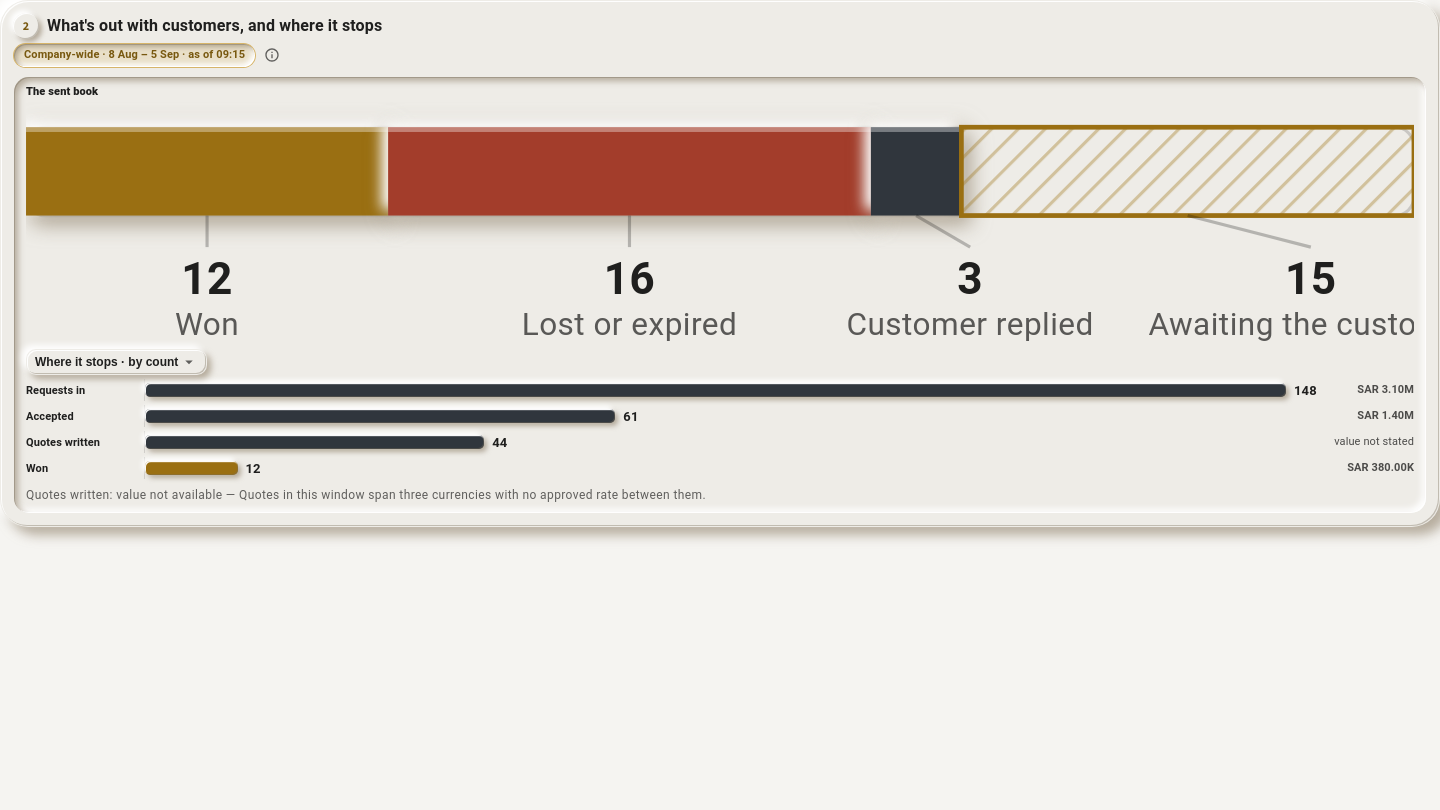
it: OutstandingBand — reading the charts in place › states a step's conversion in words when its stage is clicked, and closes on a second click
Expected: the text with test id "funnel-count-accepted" reads "61", [623,409,638,424]
Step 1. Click the button with test id "funnel-stage-accepted" → (720, 416), box [22,405,1418,427]
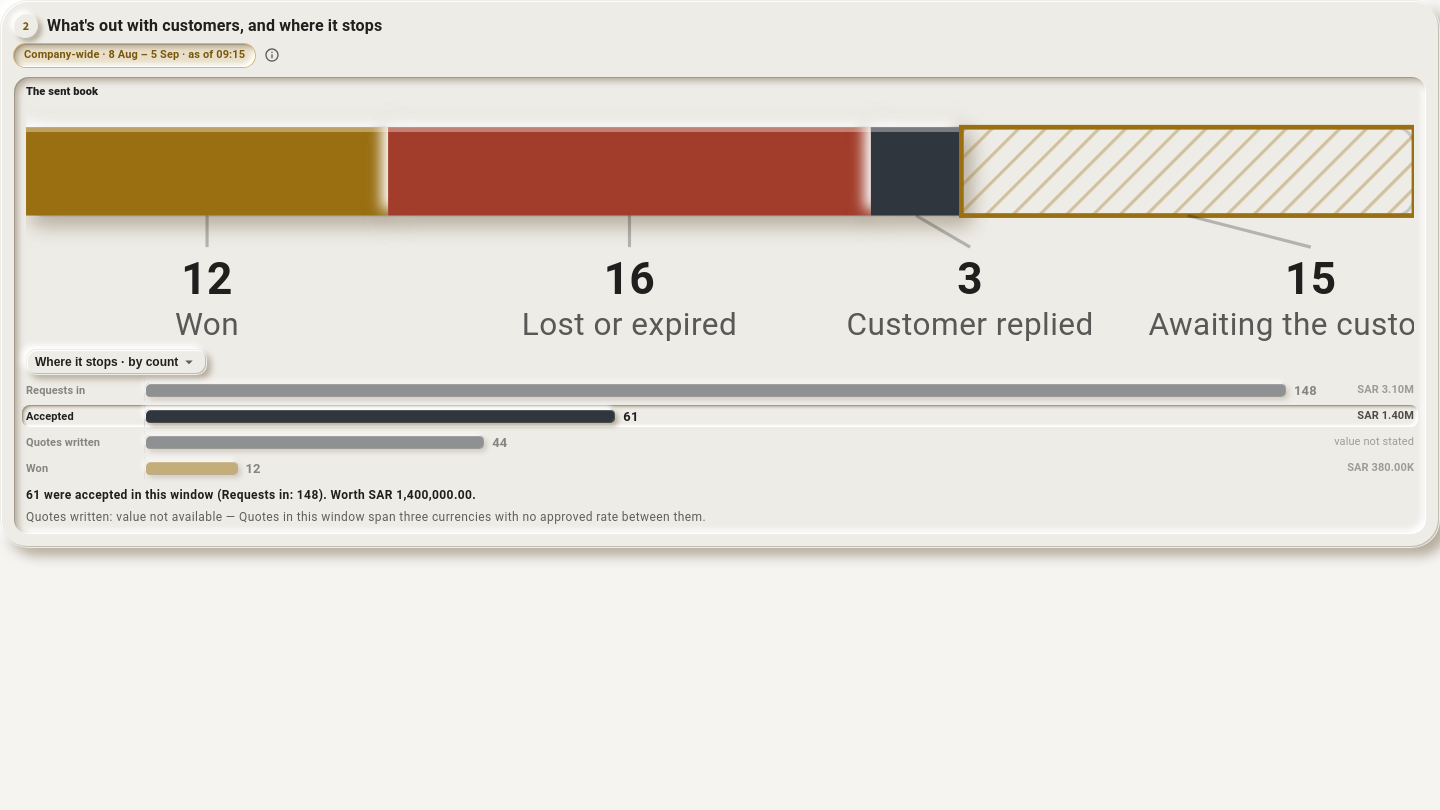
Expected: the message with test id "funnel-drill" shows "61 were accepted in this window (Requests in: 148).", [26,488,476,502]
Step 2. Click the button with test id "funnel-stage-accepted" → (720, 416), box [22,405,1418,427]
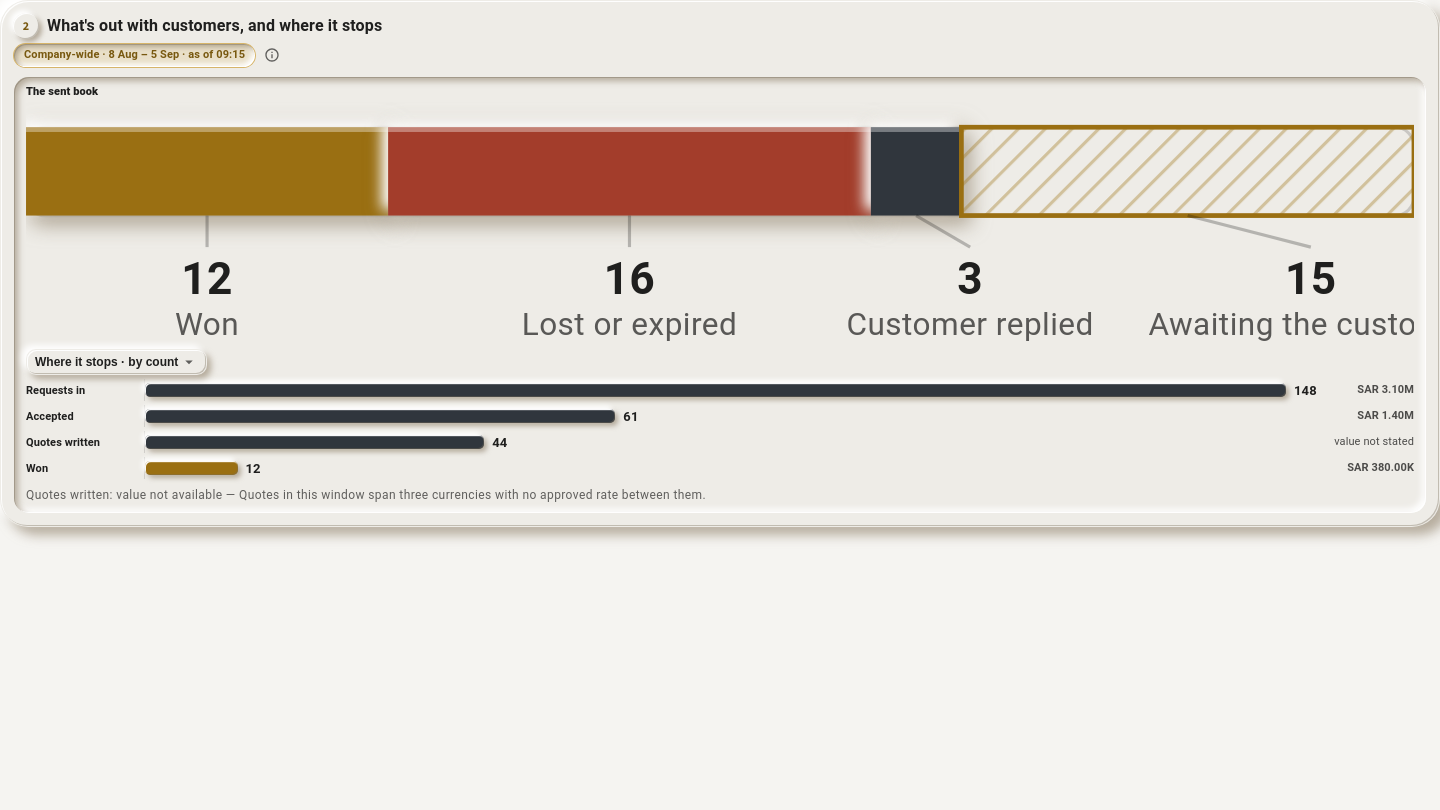
Expected: the message with test id "funnel-drill" is gone
